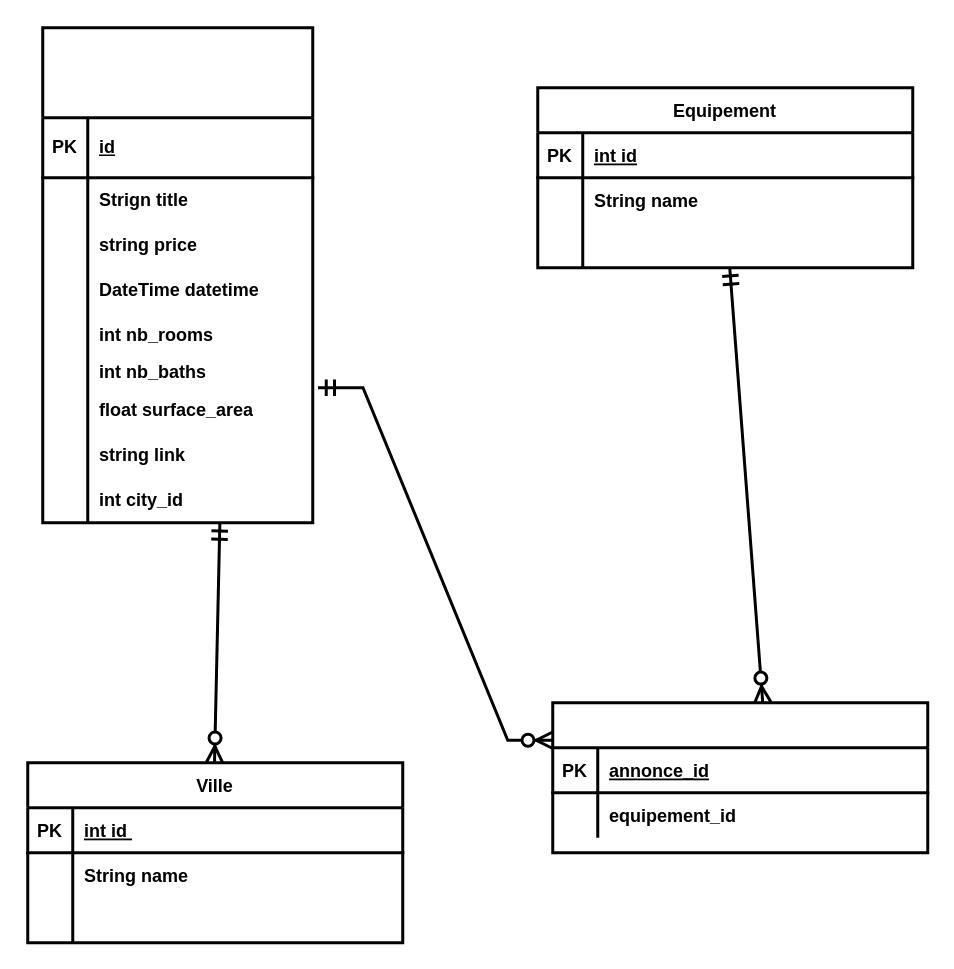
Image size: 954x969. Some labels were removed from this diagram. The shapes that lost their labels are listed below. From the top down, each one's box as (x1, y1, x2, y2) in pixels, then its label:
(40, 26, 314, 524): Annonce
(550, 700, 928, 854): ANnonceEquipement
